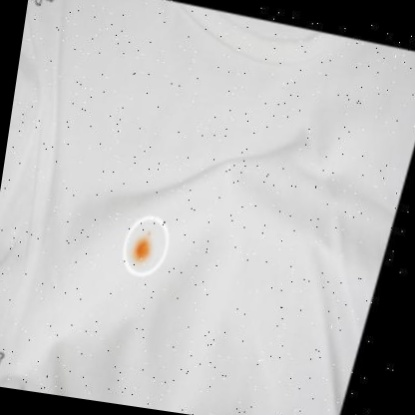kimchi: (131, 230, 159, 264)
